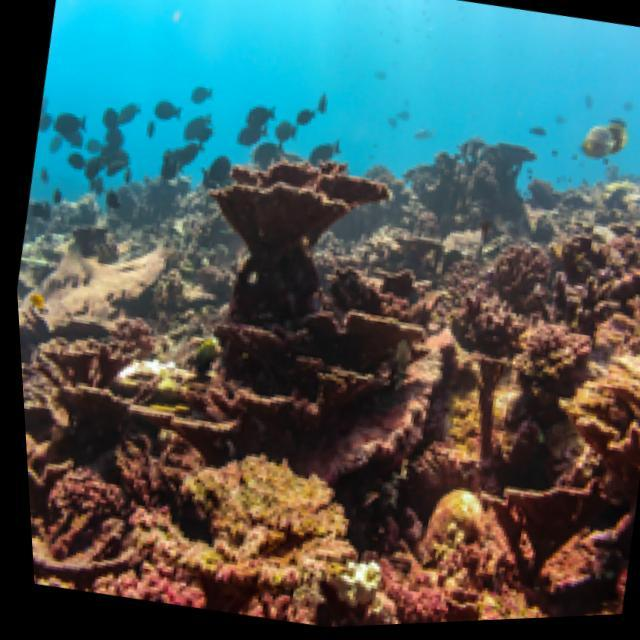Dead Coral: (177, 119, 412, 328), (434, 174, 638, 407)
